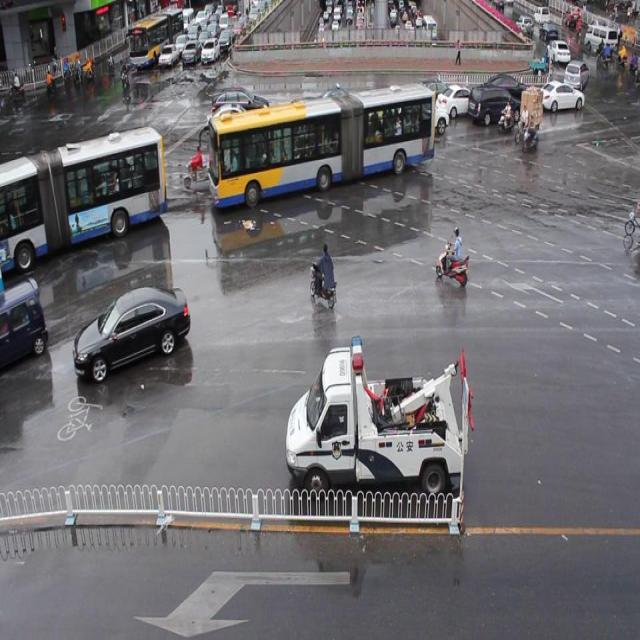bus: (285, 338, 464, 498)
car: (74, 286, 189, 382), (1, 279, 47, 367), (468, 85, 522, 125), (537, 78, 583, 113), (433, 83, 475, 116), (480, 75, 530, 102)
van: (209, 85, 433, 208)
